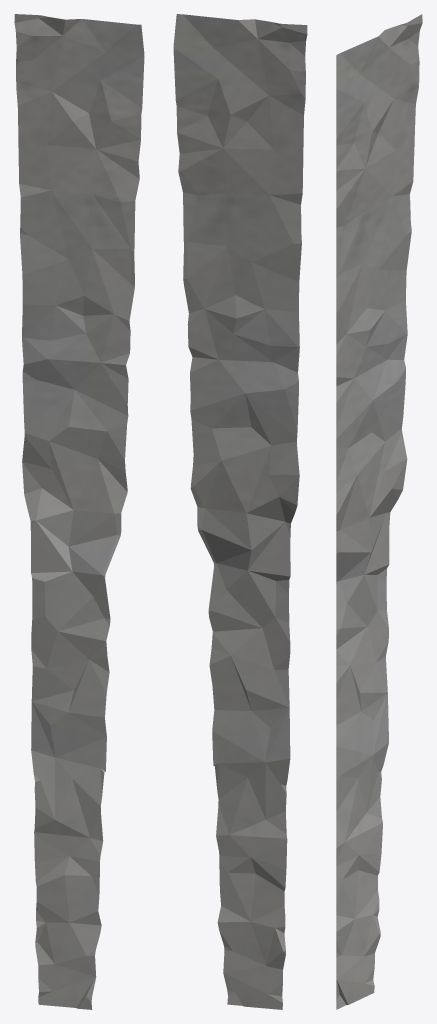
The picture shows the model from 3 angles, left to right: view 1: azimuth 30°, elevation 25°; view 2: azimuth 210°, elevation 25°; view 3: azimuth 270°, elevation 25°; orthographic projection. The views are drawn at different scales.
Bounding box in the file's own units: 0.0785 × 0.8373 × 0.0669.
Materials: 1 (1 with a texture image).
